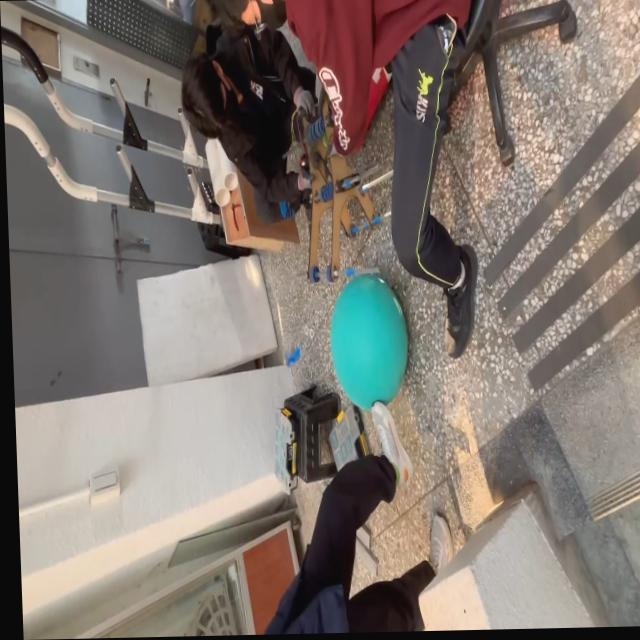ALGAE: (327, 271, 412, 412)
